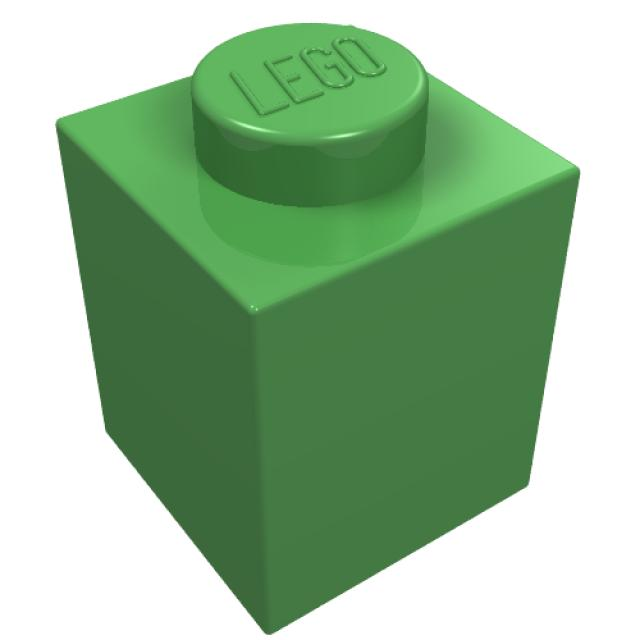Green_Small: (54, 23, 580, 637)
